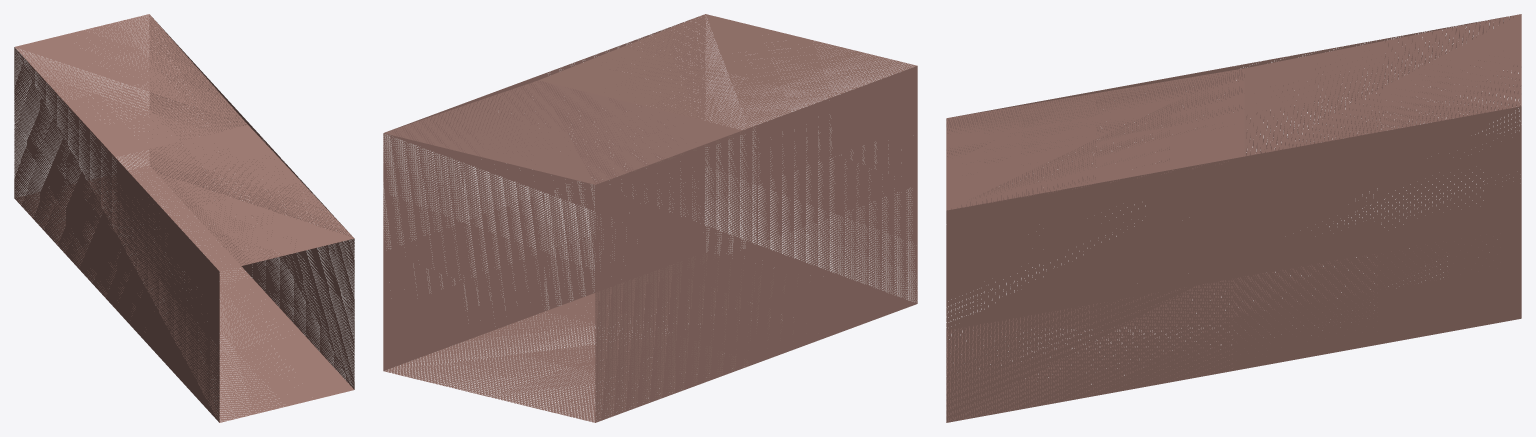
The model's file is SW_ENV_RailTunnel_TrackRise_Single_10m_FF_Collision.fbx.
3 views of the same model, side by side, from view 1: azimuth 30°, elevation 25°; view 2: azimuth 150°, elevation 25°; view 3: azimuth 270°, elevation 25° (orthographic). The views are drawn at different scales.
Parts seen in each view (by area): view 1: SW_ENV_RailTunnel_TrackRise_Single_10m_FF_Collision; view 2: SW_ENV_RailTunnel_TrackRise_Single_10m_FF_Collision; view 3: SW_ENV_RailTunnel_TrackRise_Single_10m_FF_Collision.
Part boxes in pixels (box(x1,y1,x2,y2)): SW_ENV_RailTunnel_TrackRise_Single_10m_FF_Collision: box(14, 14, 354, 422); SW_ENV_RailTunnel_TrackRise_Single_10m_FF_Collision: box(383, 14, 917, 422); SW_ENV_RailTunnel_TrackRise_Single_10m_FF_Collision: box(946, 14, 1521, 422).
Bounding box in the file's own units: 380 × 608 × 1000.
